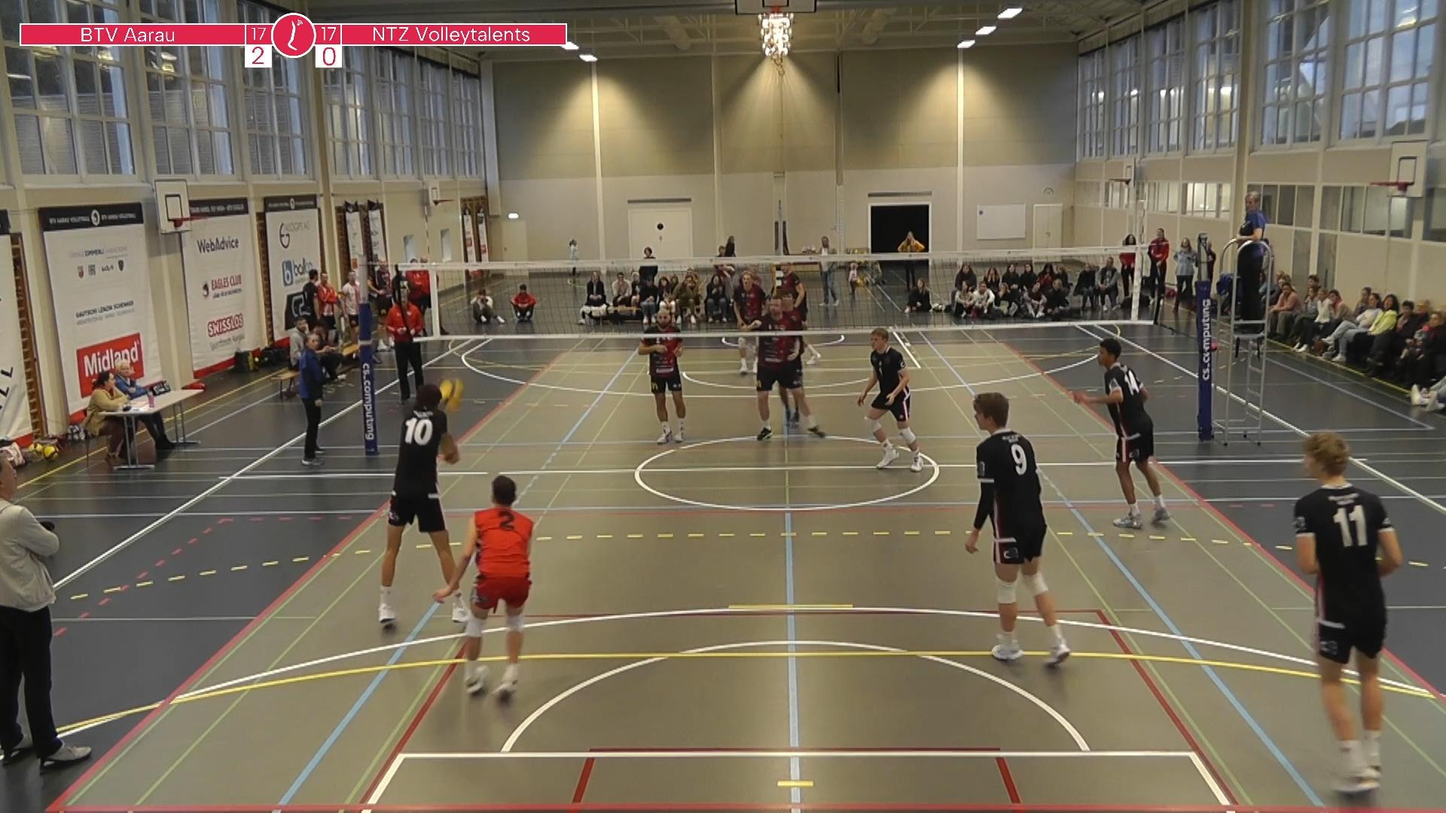ricezione: (377, 385, 475, 626)
